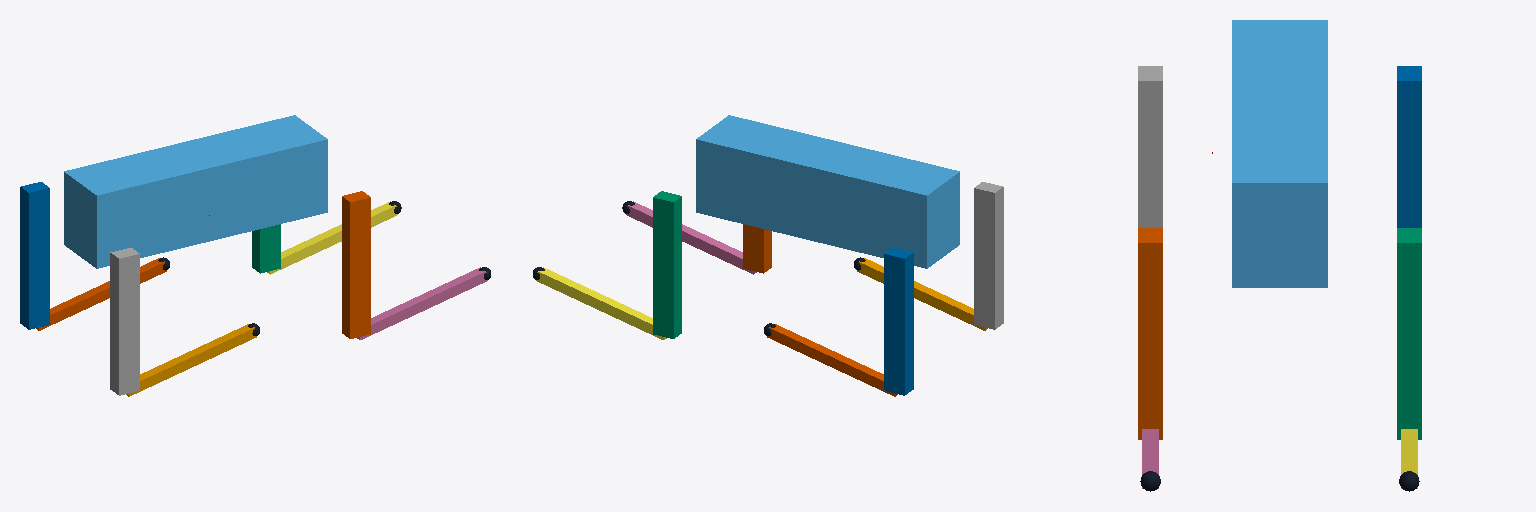
The robot description file, URDF, robot "go1_description":
<?xml version="1.0" ?>
<robot name="go1_description">
  <material name="black">
    <color rgba="0.0 0.0 0.0 1.0"/>
  </material>
  <material name="blue">
    <color rgba="0.0 0.0 0.8 1.0"/>
  </material>
  <material name="green">
    <color rgba="0.0 0.8 0.0 1.0"/>
  </material>
  <material name="grey">
    <color rgba="0.2 0.2 0.2 1.0"/>
  </material>
  <material name="silver">
    <color rgba="0.9137254901960784 0.9137254901960784 0.8470588235294118 1.0"/>
  </material>
  <material name="orange">
    <color rgba="0.12 0.15 0.2 1.0"/>
  </material>
  <material name="brown">
    <color rgba="0.8705882352941177 0.8117647058823529 0.7647058823529411 1.0"/>
  </material>
  <material name="red">
    <color rgba="0.8 0.0 0.0 1.0"/>
  </material>
  <material name="white">
    <color rgba="1.0 1.0 1.0 1.0"/>
  </material>
  <link name="base">
    <visual>
      <origin rpy="0 0 0" xyz="0 0 0"/>
      <geometry>
        <box size="0.001 0.001 0.001"/>
      </geometry>
    </visual>
  </link>
  <joint name="floating_base" type="fixed">
    <origin rpy="0 0 0" xyz="0 0 0"/>
    <parent link="base"/>
    <child link="trunk"/>
  </joint>
  <link name="trunk">
    <visual>
      <origin rpy="0 0 0" xyz="0 0 0"/>
      <geometry>
        <box size="0.3762 0.0935 0.114"/>
      </geometry>
    </visual>
    <collision>
      <origin rpy="0 0 0" xyz="0 0 0"/>
      <geometry>
        <box size="0.3762 0.0935 0.114"/>
      </geometry>
    </collision>
    <inertial>
      <origin rpy="0 0 0" xyz="0.0223 0.002 -0.0005"/>
      <mass value="5.204"/>
      <inertia ixx="0.0168352186" ixy="0.0004636141" ixz="0.0002367952" iyy="0.0656071082" iyz="3.6671e-05" izz="0.0742720659"/>
    </inertial>
  </link>
  <joint name="imu_joint" type="fixed">
    <parent link="trunk"/>
    <child link="imu_link"/>
    <origin rpy="0 0 0" xyz="-0.01592 -0.06659 -0.00617"/>
  </joint>
  <link name="imu_link">
    <inertial>
      <mass value="0.001"/>
      <origin rpy="0 0 0" xyz="0 0 0"/>
      <inertia ixx="0.0001" ixy="0" ixz="0" iyy="0.0001" iyz="0" izz="0.0001"/>
    </inertial>
    <visual>
      <origin rpy="0 0 0" xyz="0 0 0"/>
      <geometry>
        <box size="0.001 0.001 0.001"/>
      </geometry>
      <material name="red"/>
    </visual>
<!--     <collision>
      <origin rpy="0 0 0" xyz="0 0 0"/>
      <geometry>
        <box size=".001 .001 .001"/>
      </geometry>
    </collision> -->
  </link>
  <joint name="FR_hip_joint" type="revolute">
    <origin rpy="0 0 0" xyz="0.1881 -0.04675 0"/>
    <parent link="trunk"/>
    <child link="FR_hip"/>
    <axis xyz="1 0 0"/>
    <dynamics damping="0" friction="0"/>
    <limit effort="23.7" lower="-1.0471975511965976" upper="1.0471975511965976" velocity="30.1"/>
  </joint>
  <link name="FR_hip">
<!--    <visual>-->
<!--      <origin rpy="3.141592653589793 0 0" xyz="0 0 0"/>-->
<!--      <geometry>-->
<!--        <mesh filename="../meshes/hip.dae" scale="1 1 1"/>-->
<!--      </geometry>-->
<!--      <material name="orange"/>-->
<!--    </visual>-->
<!--     <collision>
      <origin rpy="1.5707963267948966 0 0" xyz="0 0 0"/>
      <geometry>
        <cylinder length="0.04" radius="0.046"/>
      </geometry>
    </collision> -->
    <inertial>
      <origin rpy="0 0 0" xyz="-0.00541 0.00074 6e-06"/>
      <mass value="0.591"/>
      <inertia ixx="0.000374268192" ixy="-3.6844422e-05" ixz="-9.86754e-07" iyy="0.000635923669" iyz="1.172894e-06" izz="0.000457647394"/>
    </inertial>
  </link>
  <joint name="FR_hip_fixed" type="fixed">
    <origin rpy="0 0 0" xyz="0 -0.08 0"/>
    <parent link="FR_hip"/>
    <child link="FR_thigh_shoulder"/>
  </joint>
  <!-- this link is only for collision -->
  <link name="FR_thigh_shoulder">
<!--     <collision>
      <origin rpy="1.5707963267948966 0 0" xyz="0 0 0"/>
      <geometry>
        <cylinder length="0.032" radius="0.041"/>
      </geometry>
    </collision> -->
  </link>
  <joint name="FR_thigh_joint" type="revolute">
    <origin rpy="0 0 0" xyz="0 -0.08 0"/>
    <parent link="FR_hip"/>
    <child link="FR_thigh"/>
    <axis xyz="0 1 0"/>
    <dynamics damping="0" friction="0"/>
    <limit effort="23.7" lower="-0.6632251157578452" upper="2.9670597283903604" velocity="30.1"/>
  </joint>
  <link name="FR_thigh">
    <visual>
      <origin rpy="0 1.5707963267948966 0" xyz="0 0 -0.1065"/>
      <geometry>
        <box size="0.213 0.0245 0.034"/>
      </geometry>
    </visual>
    <collision>
      <origin rpy="0 1.5707963267948966 0" xyz="0 0 -0.1065"/>
      <geometry>
        <box size="0.213 0.0245 0.034"/>
      </geometry>
    </collision>
    <inertial>
      <origin rpy="0 0 0" xyz="-0.003468 0.018947 -0.032736"/>
      <mass value="0.92"/>
      <inertia ixx="0.005851561134" ixy="-1.783284e-06" ixz="0.000328291374" iyy="0.005596155105" iyz="-2.1430713e-05" izz="0.00107157026"/>
    </inertial>
  </link>
  <joint name="FR_calf_joint" type="revolute">
    <origin rpy="0 0 0" xyz="0 0 -0.213"/>
    <parent link="FR_thigh"/>
    <child link="FR_calf"/>
    <axis xyz="0 1 0"/>
    <dynamics damping="0" friction="0"/>
    <limit effort="23.7" lower="-2.722713633111154" upper="-0.8377580409572781" velocity="30.1"/>
  </joint>
  <link name="FR_calf">
    <visual>
      <origin rpy="0 1.5707963267948966 0" xyz="0 0 -0.1065"/>
      <geometry>
        <box size="0.213 0.016 0.016"/>
      </geometry>
    </visual>
    <collision>
      <origin rpy="0 1.5707963267948966 0" xyz="0 0 -0.1065"/>
      <geometry>
        <box size="0.213 0.016 0.016"/>
      </geometry>
    </collision>
    <inertial>
      <origin rpy="0 0 0" xyz="0.006286 0.001307 -0.122269"/>
      <mass value="0.131"/>
      <inertia ixx="0.002939186297" ixy="1.440899e-06" ixz="-0.00010535955" iyy="0.00295576935" iyz="-2.4397752e-05" izz="3.0273372e-05"/>
    </inertial>
  </link>
  <joint name="FR_foot_fixed" type="fixed" dont_collapse="true">
    <origin rpy="0 0 0" xyz="0 0 -0.213"/>
    <parent link="FR_calf"/>
    <child link="FR_foot"/>
  </joint>
  <link name="FR_foot">
    <visual>
      <origin rpy="0 0 0" xyz="0 0 0"/>
      <geometry>
        <sphere radius="0.01"/>
      </geometry>
      <material name="orange"/>
    </visual>
    <collision>
      <origin rpy="0 0 0" xyz="0 0 0"/>
      <geometry>
        <sphere radius="0.02"/>
      </geometry>
    </collision>
    <inertial>
      <mass value="0.06"/>
      <inertia ixx="9.600000000000001e-06" ixy="0.0" ixz="0.0" iyy="9.600000000000001e-06" iyz="0.0" izz="9.600000000000001e-06"/>
    </inertial>
  </link>
  <joint name="FL_hip_joint" type="revolute">
    <origin rpy="0 0 0" xyz="0.1881 0.04675 0"/>
    <parent link="trunk"/>
    <child link="FL_hip"/>
    <axis xyz="1 0 0"/>
    <dynamics damping="0" friction="0"/>
    <limit effort="23.7" lower="-1.0471975511965976" upper="1.0471975511965976" velocity="30.1"/>
  </joint>
  <link name="FL_hip">
<!--    <visual>-->
<!--      <origin rpy="0 0 0" xyz="0 0 0"/>-->
<!--      <geometry>-->
<!--        <mesh filename="../meshes/hip.dae" scale="1 1 1"/>-->
<!--      </geometry>-->
<!--      <material name="orange"/>-->
<!--    </visual>-->
    <!-- <collision>
      <origin rpy="1.5707963267948966 0 0" xyz="0 0 0"/>
      <geometry>
        <cylinder length="0.04" radius="0.046"/>
      </geometry>
    </collision> -->
    <inertial>
      <origin rpy="0 0 0" xyz="-0.00541 -0.00074 6e-06"/>
      <mass value="0.591"/>
      <inertia ixx="0.000374268192" ixy="3.6844422e-05" ixz="-9.86754e-07" iyy="0.000635923669" iyz="-1.172894e-06" izz="0.000457647394"/>
    </inertial>
  </link>
  <joint name="FL_hip_fixed" type="fixed">
    <origin rpy="0 0 0" xyz="0 0.08 0"/>
    <parent link="FL_hip"/>
    <child link="FL_thigh_shoulder"/>
  </joint>
  <!-- this link is only for collision -->
  <link name="FL_thigh_shoulder">
<!--     <collision>
      <origin rpy="1.5707963267948966 0 0" xyz="0 0 0"/>
      <geometry>
        <cylinder length="0.032" radius="0.041"/>
      </geometry>
    </collision> -->
  </link>
  <joint name="FL_thigh_joint" type="revolute">
    <origin rpy="0 0 0" xyz="0 0.08 0"/>
    <parent link="FL_hip"/>
    <child link="FL_thigh"/>
    <axis xyz="0 1 0"/>
    <dynamics damping="0" friction="0"/>
    <limit effort="23.7" lower="-0.6632251157578452" upper="2.9670597283903604" velocity="30.1"/>
  </joint>
  <link name="FL_thigh">
    <visual>
      <origin rpy="0 1.5707963267948966 0" xyz="0 0 -0.1065"/>
      <geometry>
        <box size="0.213 0.0245 0.034"/>
      </geometry>
    </visual>
    <collision>
      <origin rpy="0 1.5707963267948966 0" xyz="0 0 -0.1065"/>
      <geometry>
        <box size="0.213 0.0245 0.034"/>
      </geometry>
    </collision>
    <inertial>
      <origin rpy="0 0 0" xyz="-0.003468 -0.018947 -0.032736"/>
      <mass value="0.92"/>
      <inertia ixx="0.005851561134" ixy="1.783284e-06" ixz="0.000328291374" iyy="0.005596155105" iyz="2.1430713e-05" izz="0.00107157026"/>
    </inertial>
  </link>
  <joint name="FL_calf_joint" type="revolute">
    <origin rpy="0 0 0" xyz="0 0 -0.213"/>
    <parent link="FL_thigh"/>
    <child link="FL_calf"/>
    <axis xyz="0 1 0"/>
    <dynamics damping="0" friction="0"/>
    <limit effort="23.7" lower="-2.722713633111154" upper="-0.8377580409572781" velocity="30.1"/>
  </joint>
  <link name="FL_calf">
    <visual>
      <origin rpy="0 1.5707963267948966 0" xyz="0 0 -0.1065"/>
      <geometry>
        <box size="0.213 0.016 0.016"/>
      </geometry>
    </visual>
    <collision>
      <origin rpy="0 1.5707963267948966 0" xyz="0 0 -0.1065"/>
      <geometry>
        <box size="0.213 0.016 0.016"/>
      </geometry>
    </collision>
    <inertial>
      <origin rpy="0 0 0" xyz="0.006286 0.001307 -0.122269"/>
      <mass value="0.131"/>
      <inertia ixx="0.002939186297" ixy="1.440899e-06" ixz="-0.00010535955" iyy="0.00295576935" iyz="-2.4397752e-05" izz="3.0273372e-05"/>
    </inertial>
  </link>
  <joint name="FL_foot_fixed" type="fixed" dont_collapse="true">
    <origin rpy="0 0 0" xyz="0 0 -0.213"/>
    <parent link="FL_calf"/>
    <child link="FL_foot"/>
  </joint>
  <link name="FL_foot">
    <visual>
      <origin rpy="0 0 0" xyz="0 0 0"/>
      <geometry>
        <sphere radius="0.01"/>
      </geometry>
      <material name="orange"/>
    </visual>
    <collision>
      <origin rpy="0 0 0" xyz="0 0 0"/>
      <geometry>
        <sphere radius="0.02"/>
      </geometry>
    </collision>
    <inertial>
      <mass value="0.06"/>
      <inertia ixx="9.600000000000001e-06" ixy="0.0" ixz="0.0" iyy="9.600000000000001e-06" iyz="0.0" izz="9.600000000000001e-06"/>
    </inertial>
  </link>
  <joint name="RR_hip_joint" type="revolute">
    <origin rpy="0 0 0" xyz="-0.1881 -0.04675 0"/>
    <parent link="trunk"/>
    <child link="RR_hip"/>
    <axis xyz="1 0 0"/>
    <dynamics damping="0" friction="0"/>
    <limit effort="23.7" lower="-1.0471975511965976" upper="1.0471975511965976" velocity="30.1"/>
  </joint>
  <link name="RR_hip">
<!--    <visual>-->
<!--      <origin rpy="3.141592653589793 3.141592653589793 0" xyz="0 0 0"/>-->
<!--      <geometry>-->
<!--        <mesh filename="../meshes/hip.dae" scale="1 1 1"/>-->
<!--      </geometry>-->
<!--      <material name="orange"/>-->
<!--    </visual>-->
<!--     <collision>
      <origin rpy="1.5707963267948966 0 0" xyz="0 0 0"/>
      <geometry>
        <cylinder length="0.04" radius="0.046"/>
      </geometry>
    </collision> -->
    <inertial>
      <origin rpy="0 0 0" xyz="0.00541 0.00074 6e-06"/>
      <mass value="0.591"/>
      <inertia ixx="0.000374268192" ixy="3.6844422e-05" ixz="9.86754e-07" iyy="0.000635923669" iyz="1.172894e-06" izz="0.000457647394"/>
    </inertial>
  </link>
  <joint name="RR_hip_fixed" type="fixed">
    <origin rpy="0 0 0" xyz="0 -0.08 0"/>
    <parent link="RR_hip"/>
    <child link="RR_thigh_shoulder"/>
  </joint>
  <!-- this link is only for collision -->
  <link name="RR_thigh_shoulder">
    <!-- <collision>
      <origin rpy="1.5707963267948966 0 0" xyz="0 0 0"/>
      <geometry>
        <cylinder length="0.032" radius="0.041"/>
      </geometry>
    </collision> -->
  </link>
  <joint name="RR_thigh_joint" type="revolute">
    <origin rpy="0 0 0" xyz="0 -0.08 0"/>
    <parent link="RR_hip"/>
    <child link="RR_thigh"/>
    <axis xyz="0 1 0"/>
    <dynamics damping="0" friction="0"/>
    <limit effort="23.7" lower="-0.6632251157578452" upper="2.9670597283903604" velocity="30.1"/>
  </joint>
  <link name="RR_thigh">
    <visual>
      <origin rpy="0 1.5707963267948966 0" xyz="0 0 -0.1065"/>
      <geometry>
        <box size="0.213 0.0245 0.034"/>
      </geometry>
    </visual>
    <collision>
      <origin rpy="0 1.5707963267948966 0" xyz="0 0 -0.1065"/>
      <geometry>
        <box size="0.213 0.0245 0.034"/>
      </geometry>
    </collision>
    <inertial>
      <origin rpy="0 0 0" xyz="-0.003468 0.018947 -0.032736"/>
      <mass value="0.92"/>
      <inertia ixx="0.005851561134" ixy="-1.783284e-06" ixz="0.000328291374" iyy="0.005596155105" iyz="-2.1430713e-05" izz="0.00107157026"/>
    </inertial>
  </link>
  <joint name="RR_calf_joint" type="revolute">
    <origin rpy="0 0 0" xyz="0 0 -0.213"/>
    <parent link="RR_thigh"/>
    <child link="RR_calf"/>
    <axis xyz="0 1 0"/>
    <dynamics damping="0" friction="0"/>
    <limit effort="23.7" lower="-2.722713633111154" upper="-0.8377580409572781" velocity="30.1"/>
  </joint>
  <link name="RR_calf">
    <visual>
      <origin rpy="0 1.5707963267948966 0" xyz="0 0 -0.1065"/>
      <geometry>
        <box size="0.213 0.016 0.016"/>
      </geometry>
    </visual>
    <collision>
      <origin rpy="0 1.5707963267948966 0" xyz="0 0 -0.1065"/>
      <geometry>
        <box size="0.213 0.016 0.016"/>
      </geometry>
    </collision>
    <inertial>
      <origin rpy="0 0 0" xyz="0.006286 0.001307 -0.122269"/>
      <mass value="0.131"/>
      <inertia ixx="0.002939186297" ixy="1.440899e-06" ixz="-0.00010535955" iyy="0.00295576935" iyz="-2.4397752e-05" izz="3.0273372e-05"/>
    </inertial>
  </link>
  <joint name="RR_foot_fixed" type="fixed" dont_collapse="true">
    <origin rpy="0 0 0" xyz="0 0 -0.213"/>
    <parent link="RR_calf"/>
    <child link="RR_foot"/>
  </joint>
  <link name="RR_foot">
    <visual>
      <origin rpy="0 0 0" xyz="0 0 0"/>
      <geometry>
        <sphere radius="0.01"/>
      </geometry>
      <material name="orange"/>
    </visual>
    <collision>
      <origin rpy="0 0 0" xyz="0 0 0"/>
      <geometry>
        <sphere radius="0.02"/>
      </geometry>
    </collision>
    <inertial>
      <mass value="0.06"/>
      <inertia ixx="9.600000000000001e-06" ixy="0.0" ixz="0.0" iyy="9.600000000000001e-06" iyz="0.0" izz="9.600000000000001e-06"/>
    </inertial>
  </link>
  <joint name="RL_hip_joint" type="revolute">
    <origin rpy="0 0 0" xyz="-0.1881 0.04675 0"/>
    <parent link="trunk"/>
    <child link="RL_hip"/>
    <axis xyz="1 0 0"/>
    <dynamics damping="0" friction="0"/>
    <limit effort="23.7" lower="-1.0471975511965976" upper="1.0471975511965976" velocity="30.1"/>
  </joint>
  <link name="RL_hip">
<!--    <visual>-->
<!--      <origin rpy="0 3.141592653589793 0" xyz="0 0 0"/>-->
<!--      <geometry>-->
<!--        <mesh filename="../meshes/hip.dae" scale="1 1 1"/>-->
<!--      </geometry>-->
<!--      <material name="orange"/>-->
<!--    </visual>-->
    <!-- <collision>
      <origin rpy="1.5707963267948966 0 0" xyz="0 0 0"/>
      <geometry>
        <cylinder length="0.04" radius="0.046"/>
      </geometry>
    </collision> -->
    <inertial>
      <origin rpy="0 0 0" xyz="0.00541 -0.00074 6e-06"/>
      <mass value="0.591"/>
      <inertia ixx="0.000374268192" ixy="-3.6844422e-05" ixz="9.86754e-07" iyy="0.000635923669" iyz="-1.172894e-06" izz="0.000457647394"/>
    </inertial>
  </link>
  <joint name="RL_hip_fixed" type="fixed">
    <origin rpy="0 0 0" xyz="0 0.08 0"/>
    <parent link="RL_hip"/>
    <child link="RL_thigh_shoulder"/>
  </joint>
  <!-- this link is only for collision -->
  <link name="RL_thigh_shoulder">
    <!-- <collision>
      <origin rpy="1.5707963267948966 0 0" xyz="0 0 0"/>
      <geometry>
        <cylinder length="0.032" radius="0.041"/>
      </geometry>
    </collision> -->
  </link>
  <joint name="RL_thigh_joint" type="revolute">
    <origin rpy="0 0 0" xyz="0 0.08 0"/>
    <parent link="RL_hip"/>
    <child link="RL_thigh"/>
    <axis xyz="0 1 0"/>
    <dynamics damping="0" friction="0"/>
    <limit effort="23.7" lower="-0.6632251157578452" upper="2.9670597283903604" velocity="30.1"/>
  </joint>
  <link name="RL_thigh">
    <visual>
      <origin rpy="0 1.5707963267948966 0" xyz="0 0 -0.1065"/>
      <geometry>
        <box size="0.213 0.0245 0.034"/>
      </geometry>
    </visual>
    <collision>
      <origin rpy="0 1.5707963267948966 0" xyz="0 0 -0.1065"/>
      <geometry>
        <box size="0.213 0.0245 0.034"/>
      </geometry>
    </collision>
    <inertial>
      <origin rpy="0 0 0" xyz="-0.003468 -0.018947 -0.032736"/>
      <mass value="0.92"/>
      <inertia ixx="0.005851561134" ixy="1.783284e-06" ixz="0.000328291374" iyy="0.005596155105" iyz="2.1430713e-05" izz="0.00107157026"/>
    </inertial>
  </link>
  <joint name="RL_calf_joint" type="revolute">
    <origin rpy="0 0 0" xyz="0 0 -0.213"/>
    <parent link="RL_thigh"/>
    <child link="RL_calf"/>
    <axis xyz="0 1 0"/>
    <dynamics damping="0" friction="0"/>
    <limit effort="23.7" lower="-2.722713633111154" upper="-0.8377580409572781" velocity="30.1"/>
  </joint>
  <link name="RL_calf">
    <visual>
      <origin rpy="0 1.5707963267948966 0" xyz="0 0 -0.1065"/>
      <geometry>
        <box size="0.213 0.016 0.016"/>
      </geometry>
    </visual>
    <collision>
      <origin rpy="0 1.5707963267948966 0" xyz="0 0 -0.1065"/>
      <geometry>
        <box size="0.213 0.016 0.016"/>
      </geometry>
    </collision>
    <inertial>
      <origin rpy="0 0 0" xyz="0.006286 0.001307 -0.122269"/>
      <mass value="0.131"/>
      <inertia ixx="0.002939186297" ixy="1.440899e-06" ixz="-0.00010535955" iyy="0.00295576935" iyz="-2.4397752e-05" izz="3.0273372e-05"/>
    </inertial>
  </link>
  <joint name="RL_foot_fixed" type="fixed" dont_collapse="true">
    <origin rpy="0 0 0" xyz="0 0 -0.213"/>
    <parent link="RL_calf"/>
    <child link="RL_foot"/>
  </joint>
  <link name="RL_foot">
    <visual>
      <origin rpy="0 0 0" xyz="0 0 0"/>
      <geometry>
        <sphere radius="0.01"/>
      </geometry>
      <material name="orange"/>
    </visual>
    <collision>
      <origin rpy="0 0 0" xyz="0 0 0"/>
      <geometry>
        <sphere radius="0.02"/>
      </geometry>
    </collision>
    <inertial>
      <mass value="0.06"/>
      <inertia ixx="9.600000000000001e-06" ixy="0.0" ixz="0.0" iyy="9.600000000000001e-06" iyz="0.0" izz="9.600000000000001e-06"/>
    </inertial>
  </link>

  <actuator>
    <position class="abduction" name="FR_hip" joint="FR_hip_joint"/>
    <position class="hip" name="FR_thigh" joint="FR_thigh_joint"/>
    <position class="knee" name="FR_calf" joint="FR_calf_joint"/>
    <position class="abduction" name="FL_hip" joint="FL_hip_joint"/>
    <position class="hip" name="FL_thigh" joint="FL_thigh_joint"/>
    <position class="knee" name="FL_calf" joint="FL_calf_joint"/>
    <position class="abduction" name="RR_hip" joint="RR_hip_joint"/>
    <position class="hip" name="RR_thigh" joint="RR_thigh_joint"/>
    <position class="knee" name="RR_calf" joint="RR_calf_joint"/>
    <position class="abduction" name="RL_hip" joint="RL_hip_joint"/>
    <position class="hip" name="RL_thigh" joint="RL_thigh_joint"/>
    <position class="knee" name="RL_calf" joint="RL_calf_joint"/>
  </actuator>
</robot>

--- Facts derived from the render (not from the file) ---
The picture shows the robot from 3 angles, left to right: view 1: azimuth 30°, elevation 25°; view 2: azimuth 150°, elevation 25°; view 3: azimuth 270°, elevation 25°; orthographic projection.
Robot: go1_description — 23 links, 22 joints (12 revolute, 10 fixed); root link base; default pose: joints at zero except 4 at the middle of their limits (FR_calf_joint = -1.78, FL_calf_joint = -1.78, RR_calf_joint = -1.78, RL_calf_joint = -1.78).
Links seen in each view (by area): view 1: trunk, RR_thigh, RL_thigh, FR_thigh, FR_calf, RR_calf, FL_calf, RL_calf, FL_thigh; view 2: trunk, RR_thigh, RL_thigh, FL_thigh, FL_calf, RL_calf, FR_calf, RR_calf, FR_thigh; view 3: trunk, FR_thigh, FL_thigh, RR_thigh, RL_thigh, FR_calf, FL_calf.
Boxes of the visible links, left/top/right/bottom form: trunk: left=64, top=115, right=327, bottom=268; RR_thigh: left=110, top=248, right=139, bottom=395; RL_thigh: left=20, top=182, right=49, bottom=329; FR_thigh: left=342, top=191, right=370, bottom=338; FR_calf: left=357, top=267, right=487, bottom=339; RR_calf: left=126, top=324, right=256, bottom=396; FL_calf: left=267, top=201, right=397, bottom=274; RL_calf: left=36, top=258, right=166, bottom=330; FL_thigh: left=252, top=224, right=280, bottom=273; trunk: left=696, top=115, right=959, bottom=268; RR_thigh: left=974, top=182, right=1003, bottom=329; RL_thigh: left=884, top=248, right=913, bottom=395; FL_thigh: left=653, top=191, right=681, bottom=338; FL_calf: left=536, top=267, right=666, bottom=339; RL_calf: left=767, top=324, right=897, bottom=396; FR_calf: left=626, top=201, right=756, bottom=274; RR_calf: left=857, top=258, right=987, bottom=330; FR_thigh: left=743, top=224, right=771, bottom=273; trunk: left=1232, top=20, right=1327, bottom=287; FR_thigh: left=1138, top=228, right=1162, bottom=439; FL_thigh: left=1397, top=228, right=1421, bottom=439; RR_thigh: left=1138, top=66, right=1162, bottom=227; RL_thigh: left=1397, top=66, right=1421, bottom=227; FR_calf: left=1142, top=429, right=1158, bottom=488; FL_calf: left=1401, top=429, right=1417, bottom=488.
Bounding box of the posed robot: 0.6115 × 0.278 × 0.2778 m (x, y, z).
Geometry: primitives only (box / cylinder / sphere), no mesh files.